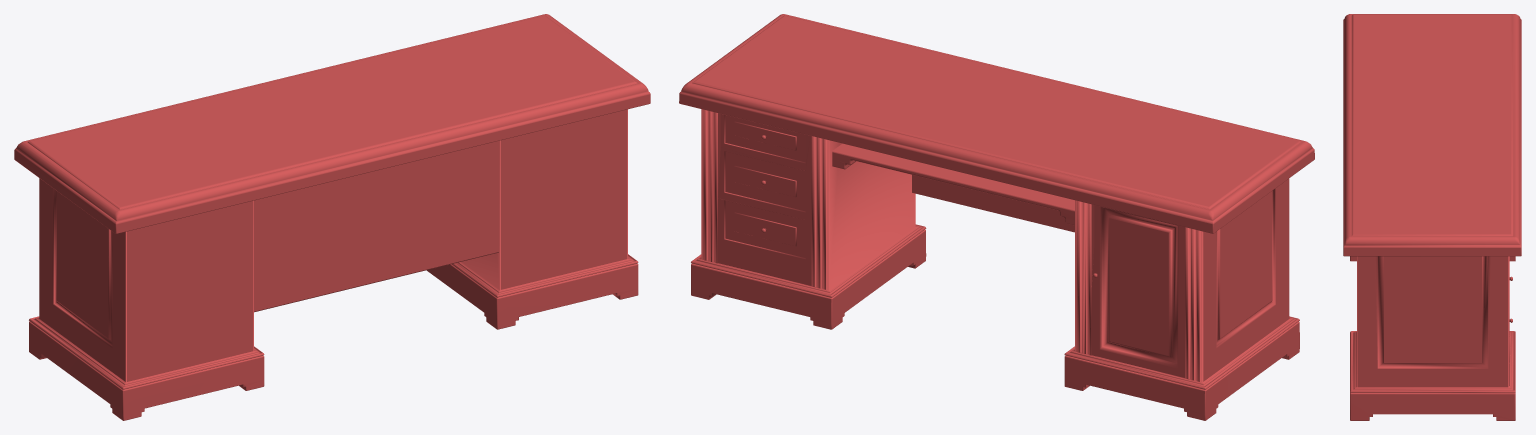
File: Business desk.fbx
The picture shows the model from 3 angles, left to right: view 1: azimuth 30°, elevation 25°; view 2: azimuth 150°, elevation 25°; view 3: azimuth 270°, elevation 25°; orthographic projection. The views are drawn at different scales.
Visible parts, largest first — view 1: Business desk; view 2: Business desk; view 3: Business desk.
Boxes of the visible parts, box(x1,y1,x2,y2) form: Business desk: box(14, 14, 650, 420); Business desk: box(679, 14, 1314, 420); Business desk: box(1343, 14, 1521, 420).
Size of the model in its own units: 664 by 252 by 219.
